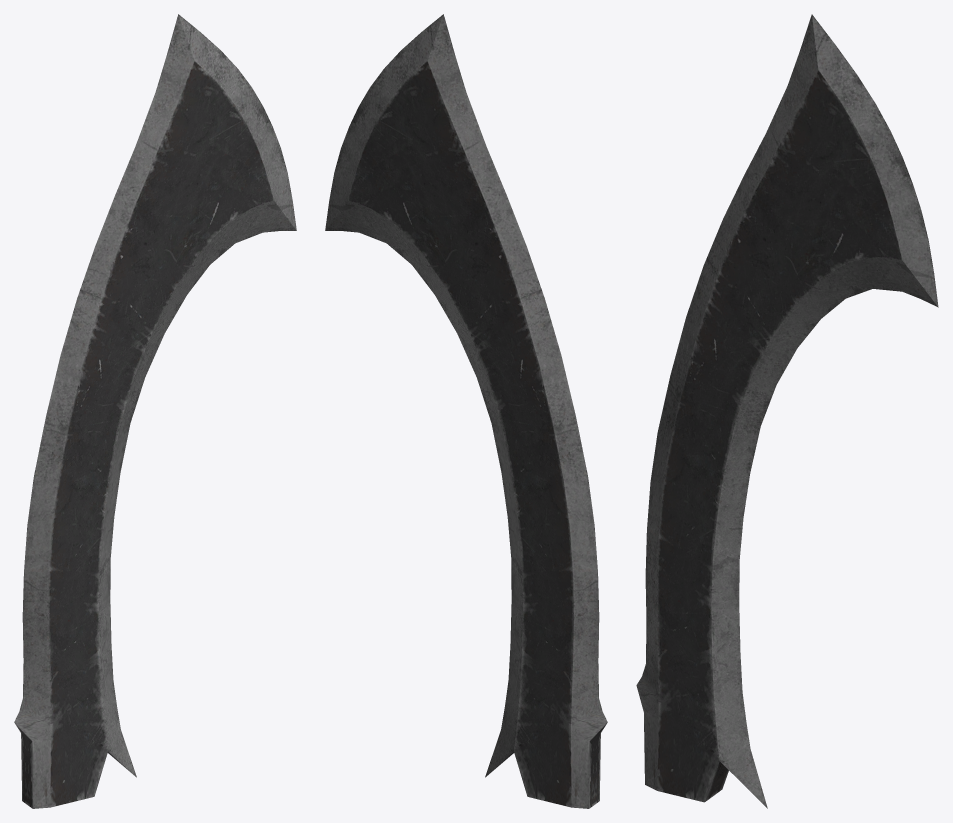
File: sm_uruk_sword_blade_a2.fbx
3 renders of one model, left to right at view 1: azimuth 30°, elevation 25°; view 2: azimuth 150°, elevation 25°; view 3: azimuth 330°, elevation 25°, orthographic. The views are drawn at different scales.
Parts seen in each view (by area): view 1: sm_uruk_sword_blade_a2; view 2: sm_uruk_sword_blade_a2; view 3: sm_uruk_sword_blade_a2.
Boxes of the visible parts, box(x1,y1,x2,y2) form: sm_uruk_sword_blade_a2: box(14, 14, 296, 808); sm_uruk_sword_blade_a2: box(325, 14, 607, 808); sm_uruk_sword_blade_a2: box(636, 14, 938, 808).
Bounding box in the file's own units: 0.2943 × 0.03 × 0.7503.
Materials: 1 (1 with a texture image).
